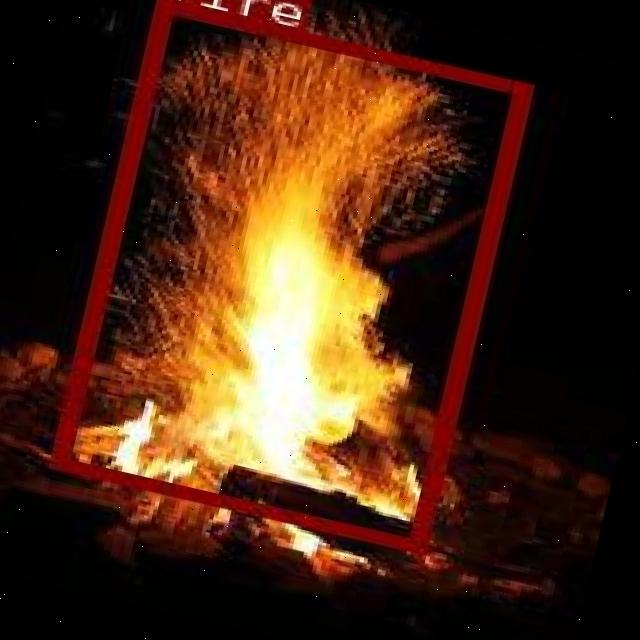fire: (47, 0, 531, 550)
